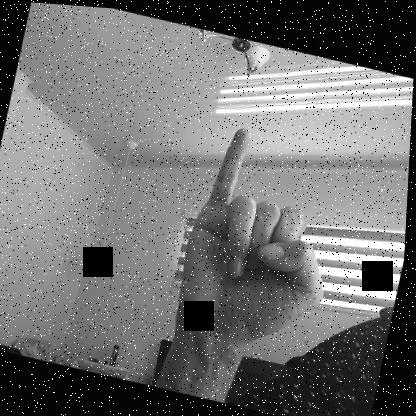I: (171, 112, 358, 352)
